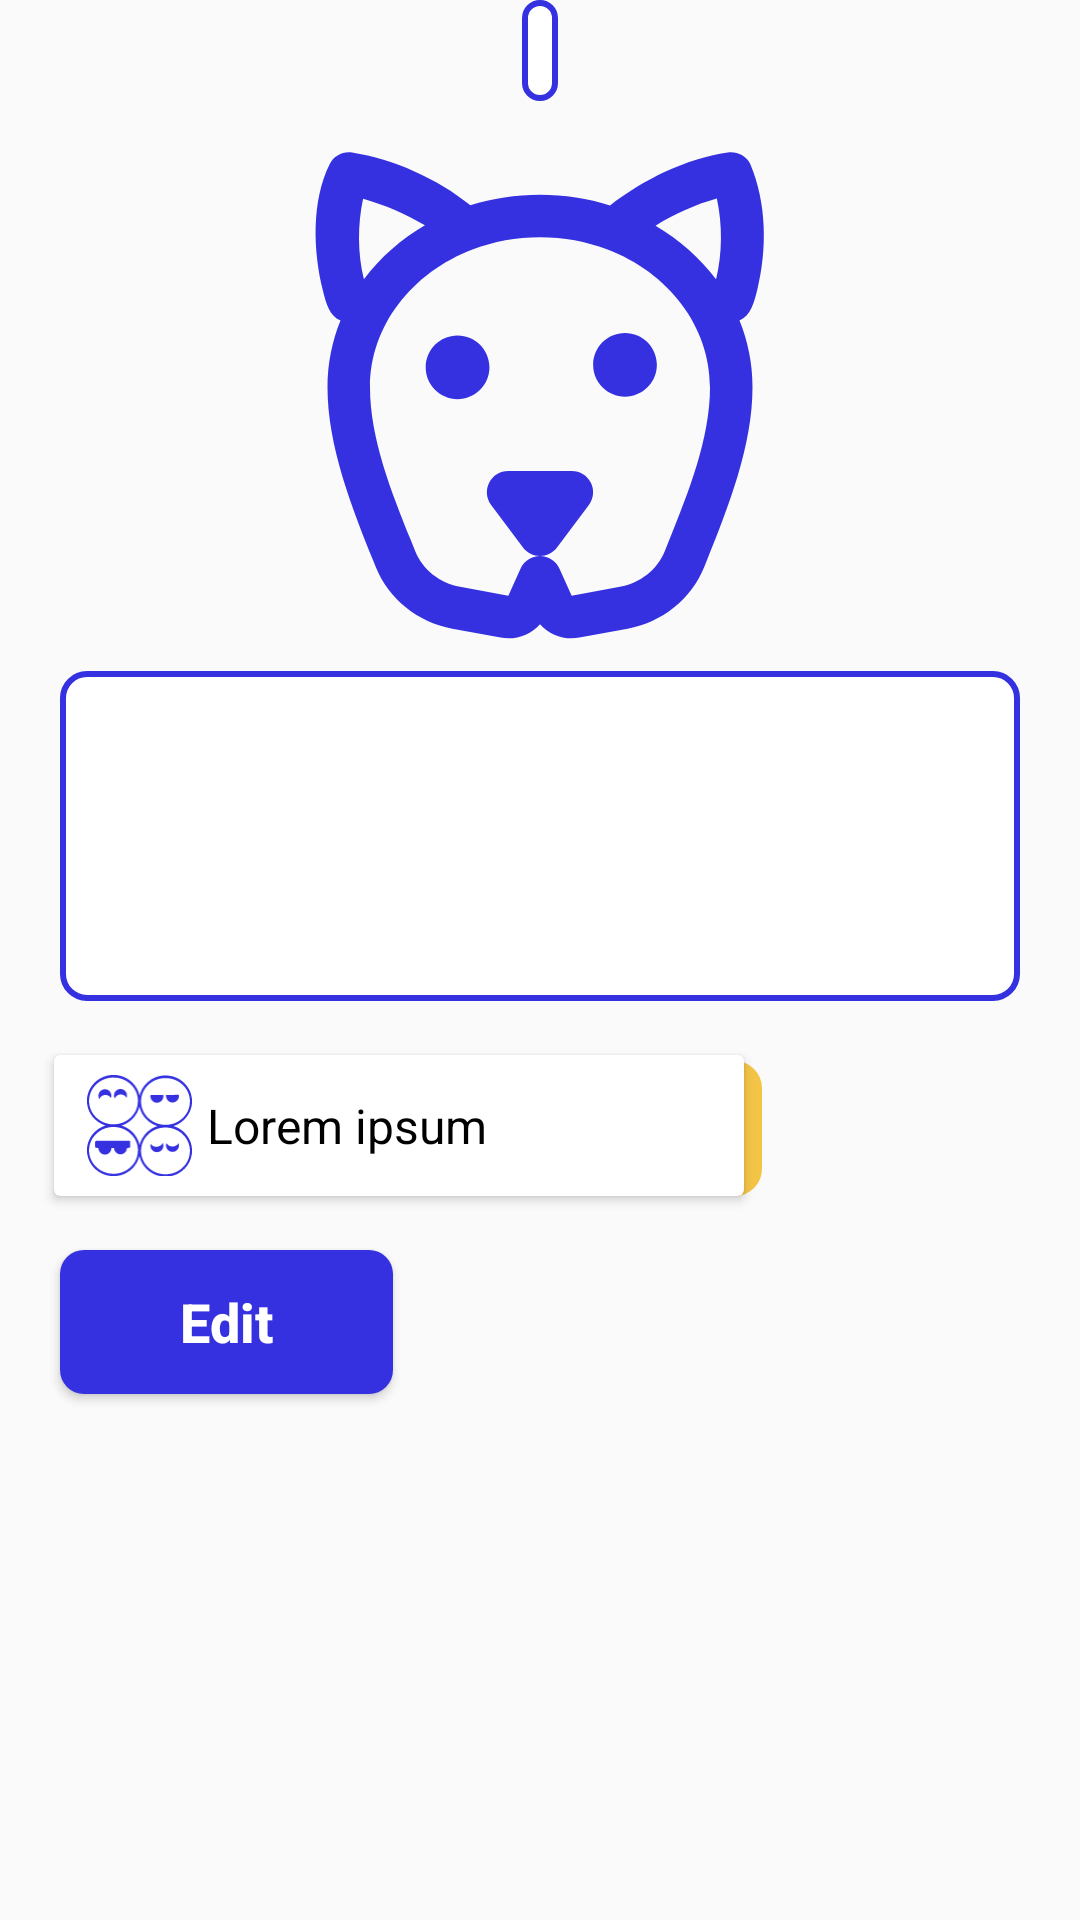

Point at icon controls on the screen. Image size 1080 x 1920, points as point (x, y).
faces: point (139, 1125)
